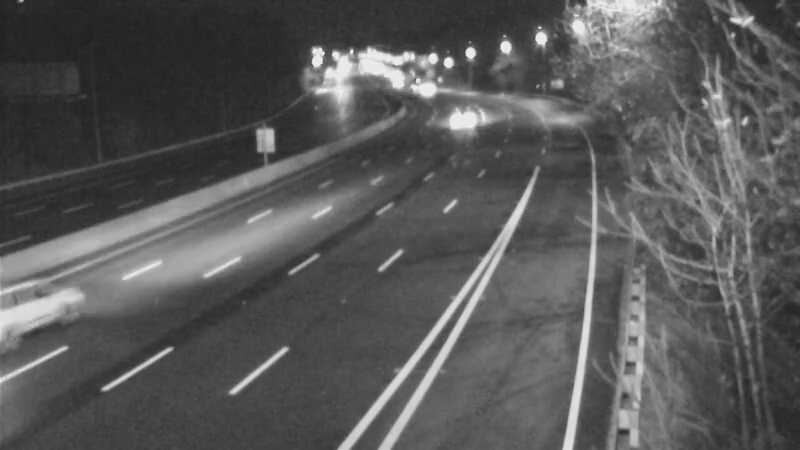vehicle: (393, 57, 443, 107), (404, 65, 454, 115), (433, 93, 483, 143)
